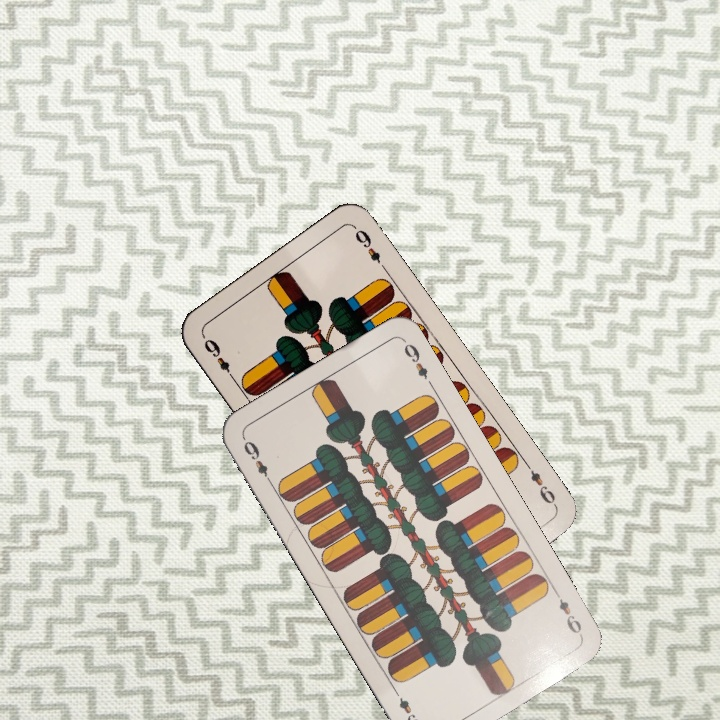E9: (521, 459, 560, 511), (199, 334, 239, 384), (239, 434, 276, 488), (554, 595, 585, 640)
